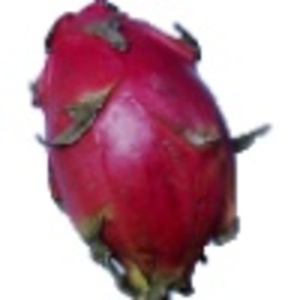pitaia: (30, 1, 273, 300)
